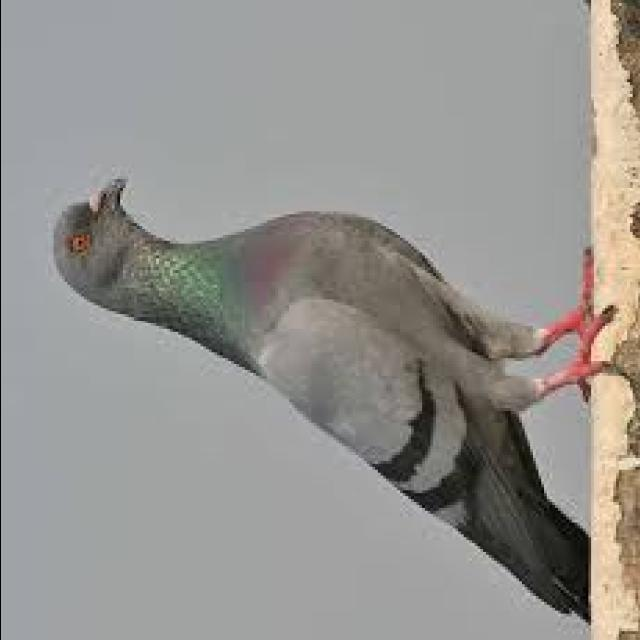pigeon: (34, 167, 606, 619)
